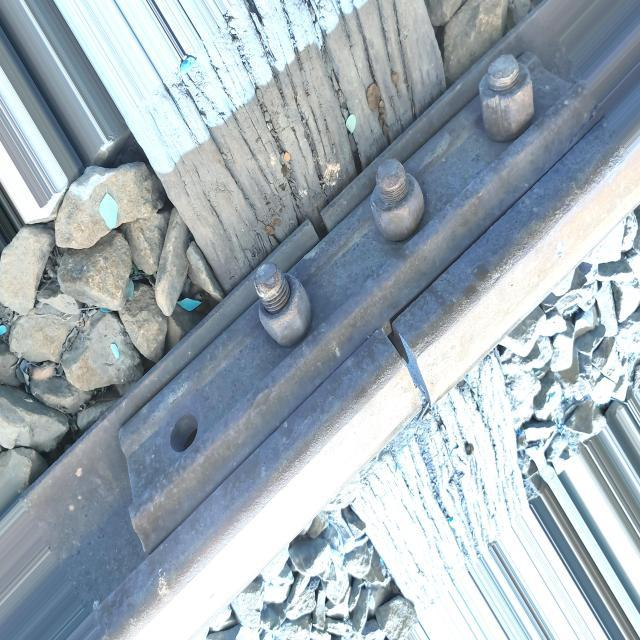Defective Joint: (115, 36, 599, 578)
